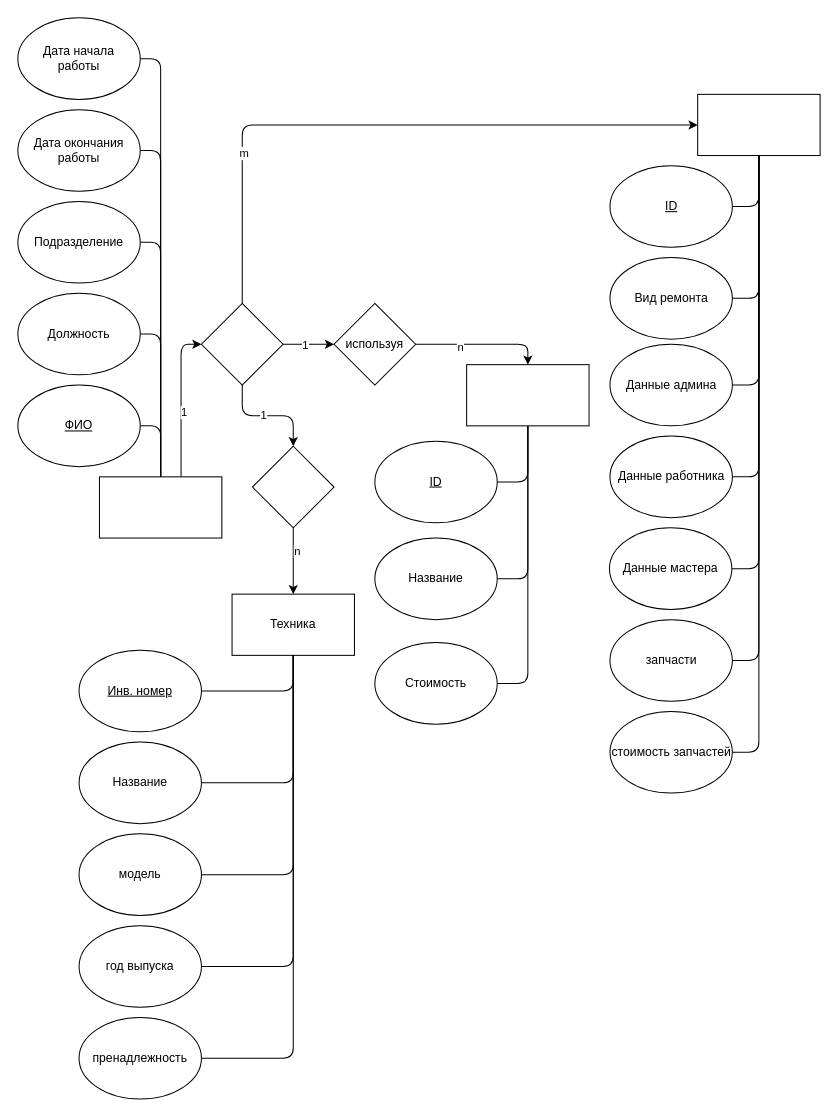
Some shapes in this 838 by 1117 pixel diagram are drawn without their labels. Each missing label, with the box of its shape:
Запчасть: (466, 364, 589, 426)
инициирует: (200, 302, 283, 385)
Процесс ремонта: (697, 93, 820, 156)
ремонтируя: (251, 445, 334, 528)
Сотрудник: (98, 476, 222, 538)
